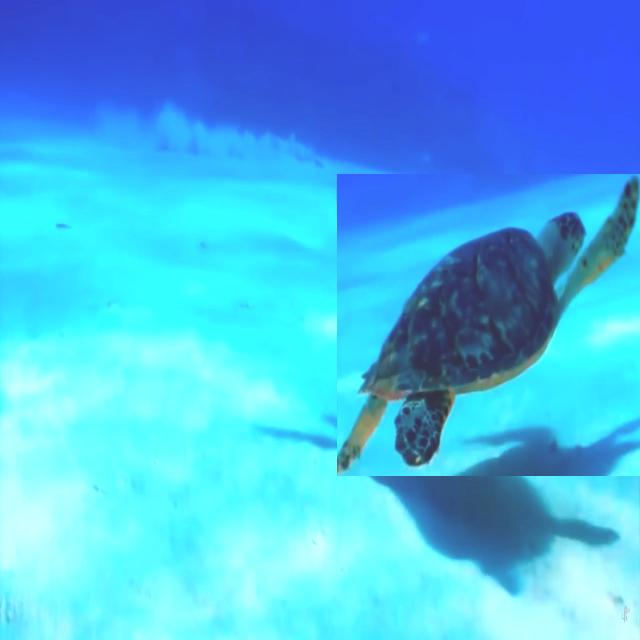Sea turtle: (337, 174, 640, 476)
